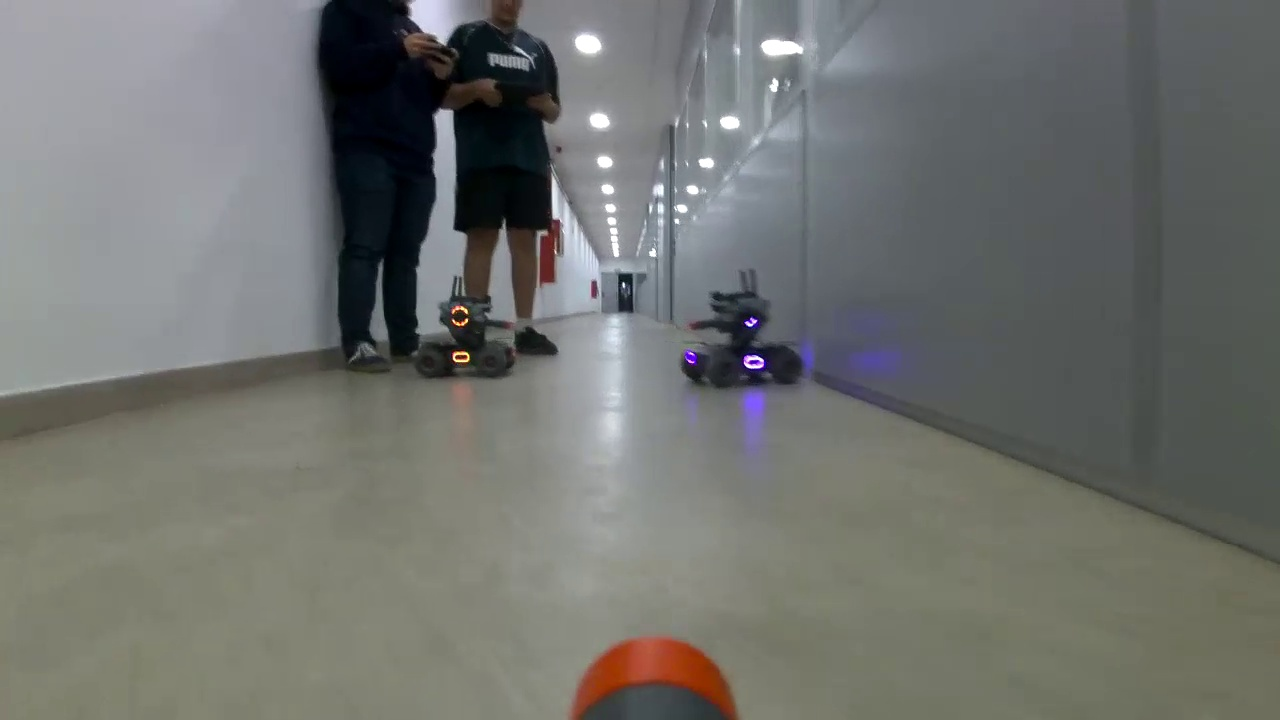robot: (681, 290, 805, 387), (413, 293, 516, 379)
